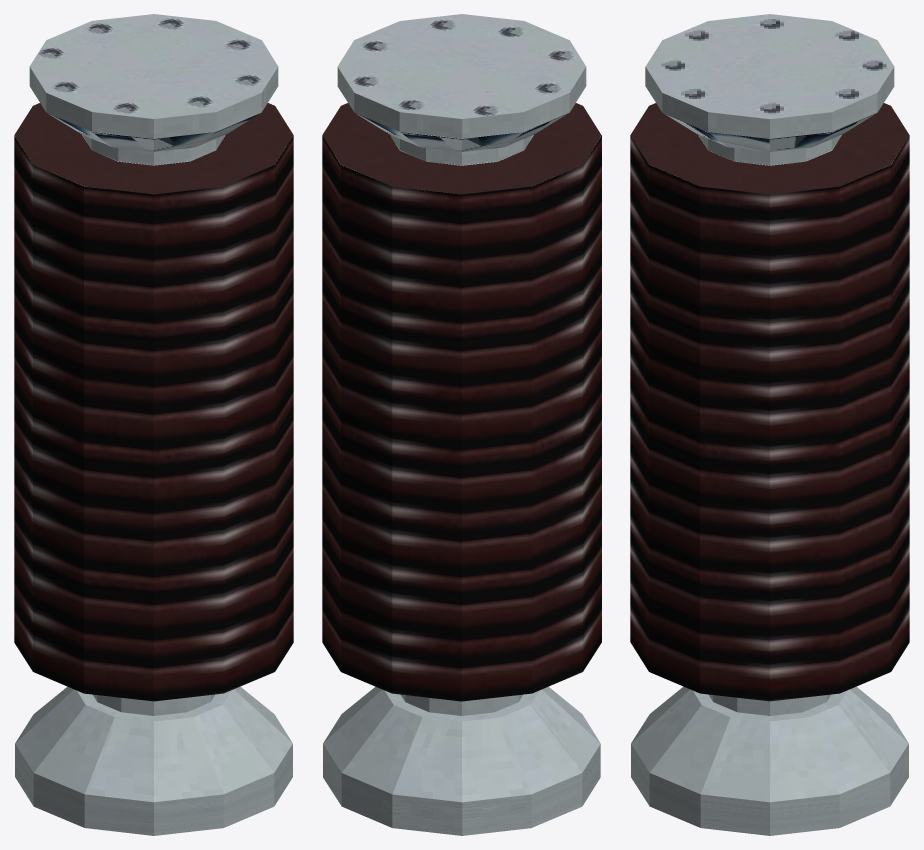
Rendered from wjyz012-geode.glb.
The picture shows the model from 3 angles, left to right: view 1: azimuth 30°, elevation 25°; view 2: azimuth 150°, elevation 25°; view 3: azimuth 270°, elevation 25°; orthographic projection.
Visible parts, largest first — view 1: Node; view 2: Node; view 3: Node.
Part boxes in pixels (x1,y1,x2,y2): Node: (14, 14, 293, 835); Node: (322, 14, 601, 835); Node: (630, 14, 909, 835).
Bounding box in the file's own units: 0.1671 × 0.4687 × 0.1671.
5 materials, 5 textured.
